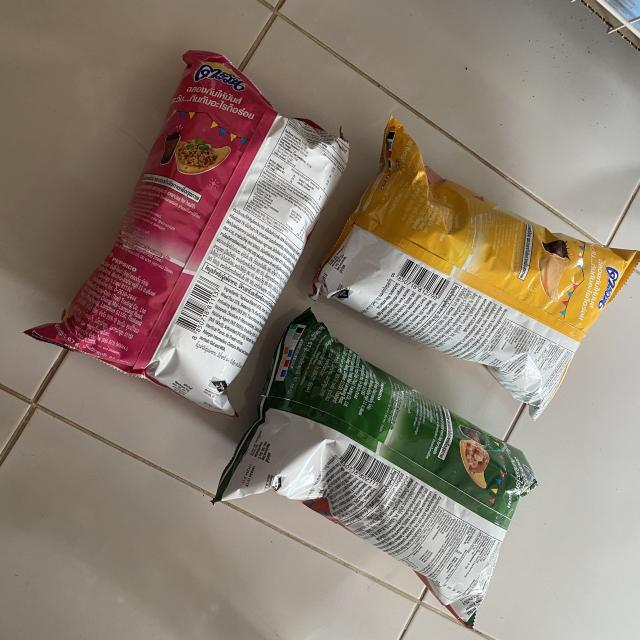plastik: (26, 51, 349, 415), (214, 310, 536, 626), (314, 118, 640, 419)
